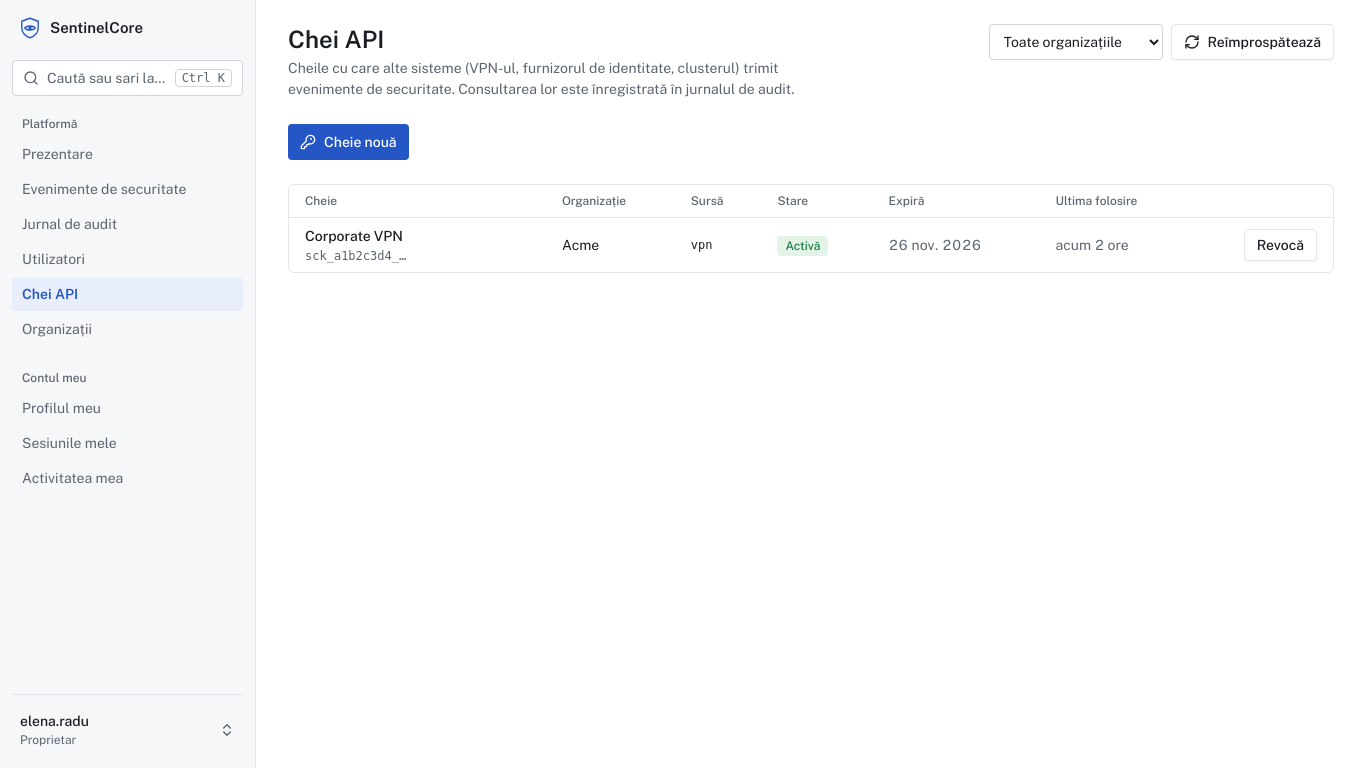
Test: organization API keys page › makes the owner choose among the organizations that are not suspended
Click the button "Cheie nouă".
click(348, 142)  # box [288, 124, 409, 160]
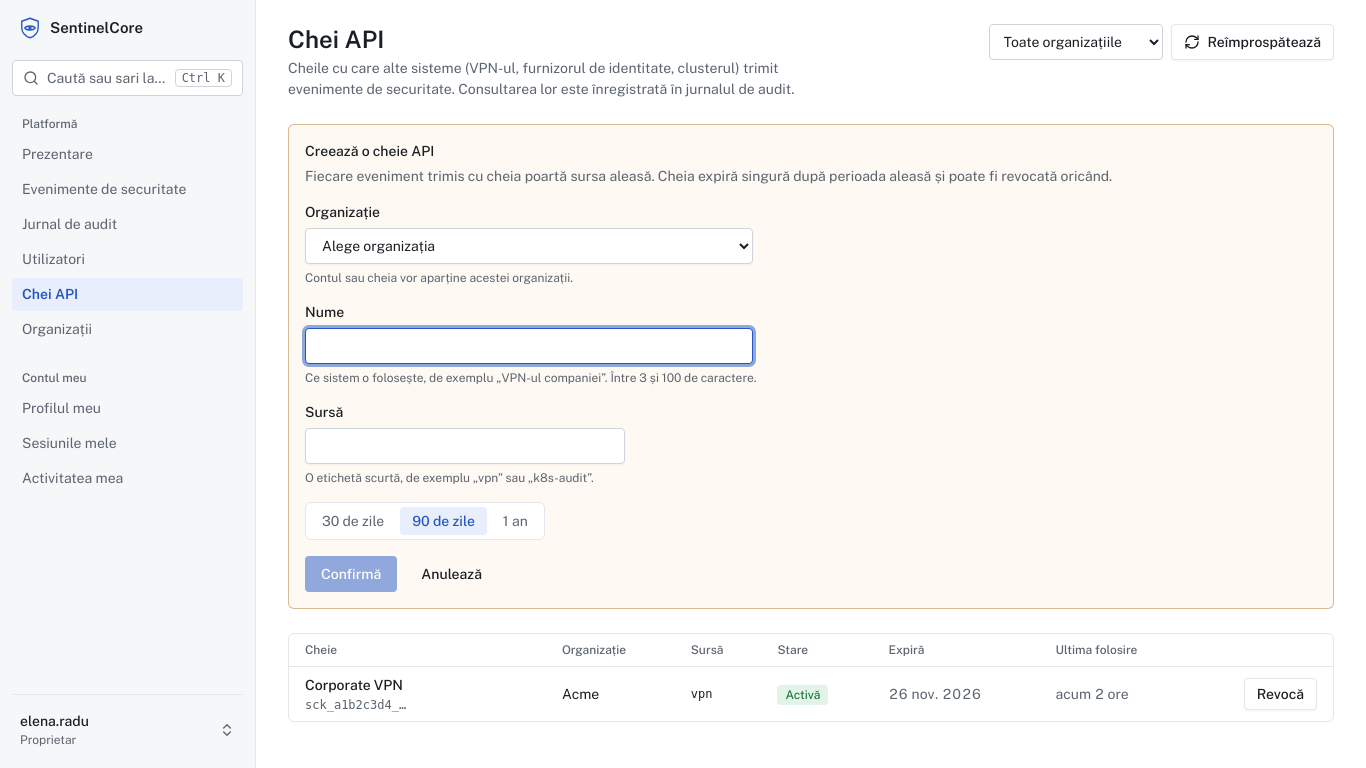
Type "Okta" into the field labelled "Nume".
click(529, 346); type("Okta")  # box [305, 328, 753, 364]
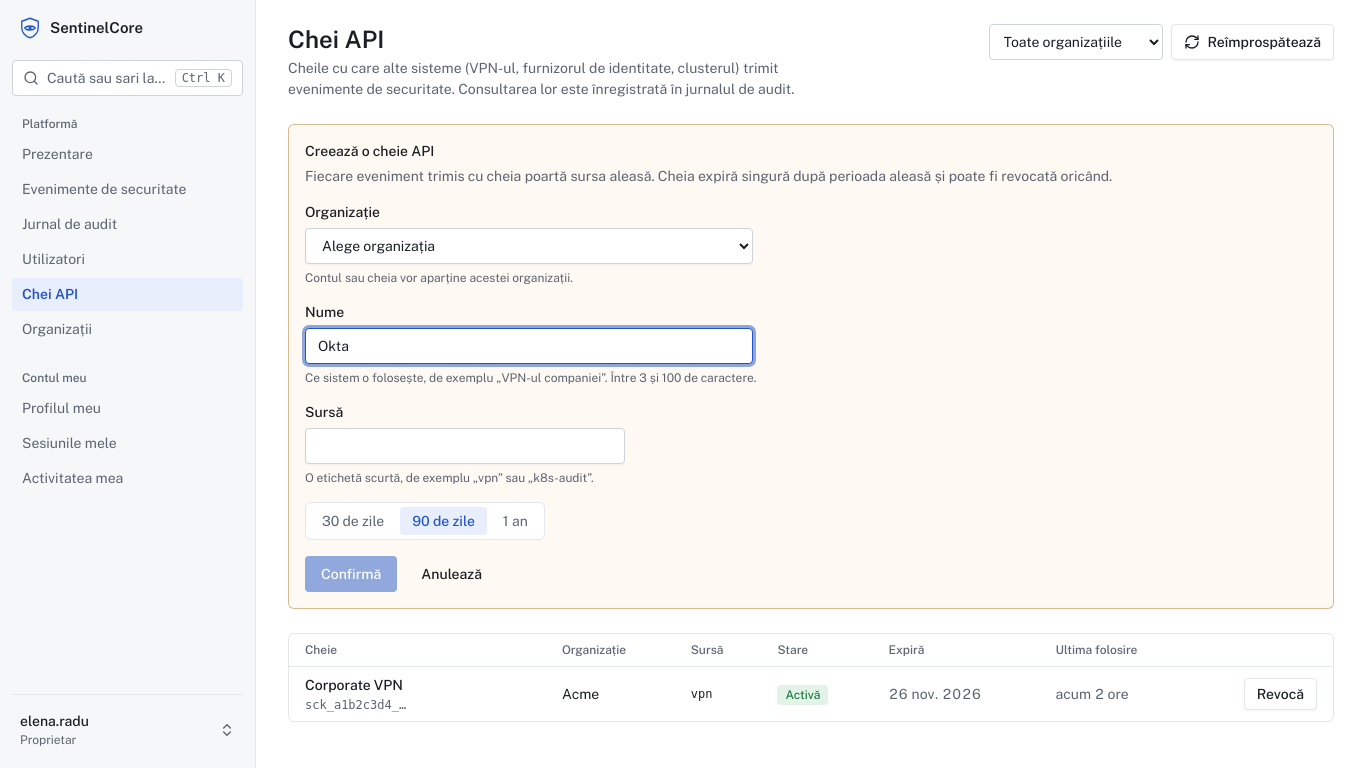
Type "okta" into the field labelled "Sursă".
click(465, 446); type("okta")  # box [305, 428, 625, 464]
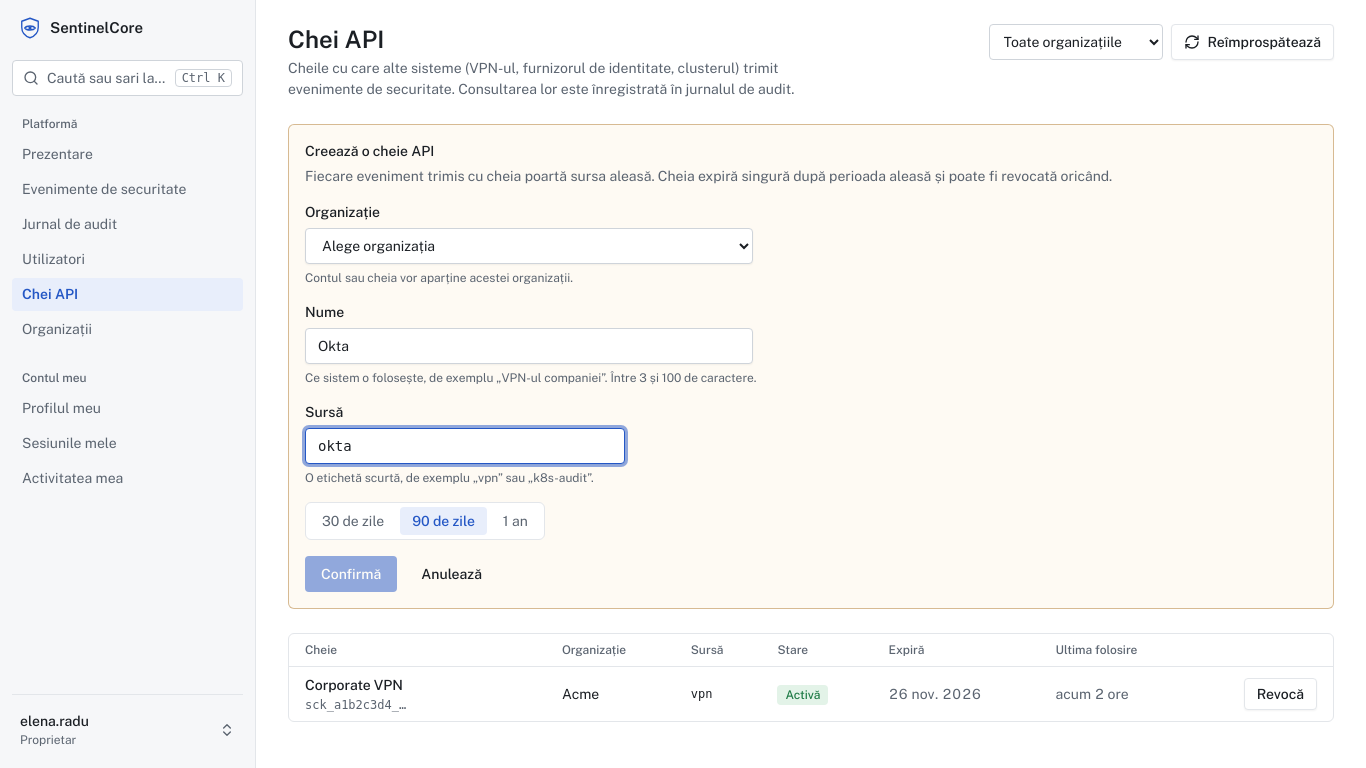
Expected: the button "Confirmă" is disabled, [305, 556, 397, 592]
Select "Globex (globex)" in the dropdown labelled "Organizație" at (529, 246), box [305, 228, 753, 264]
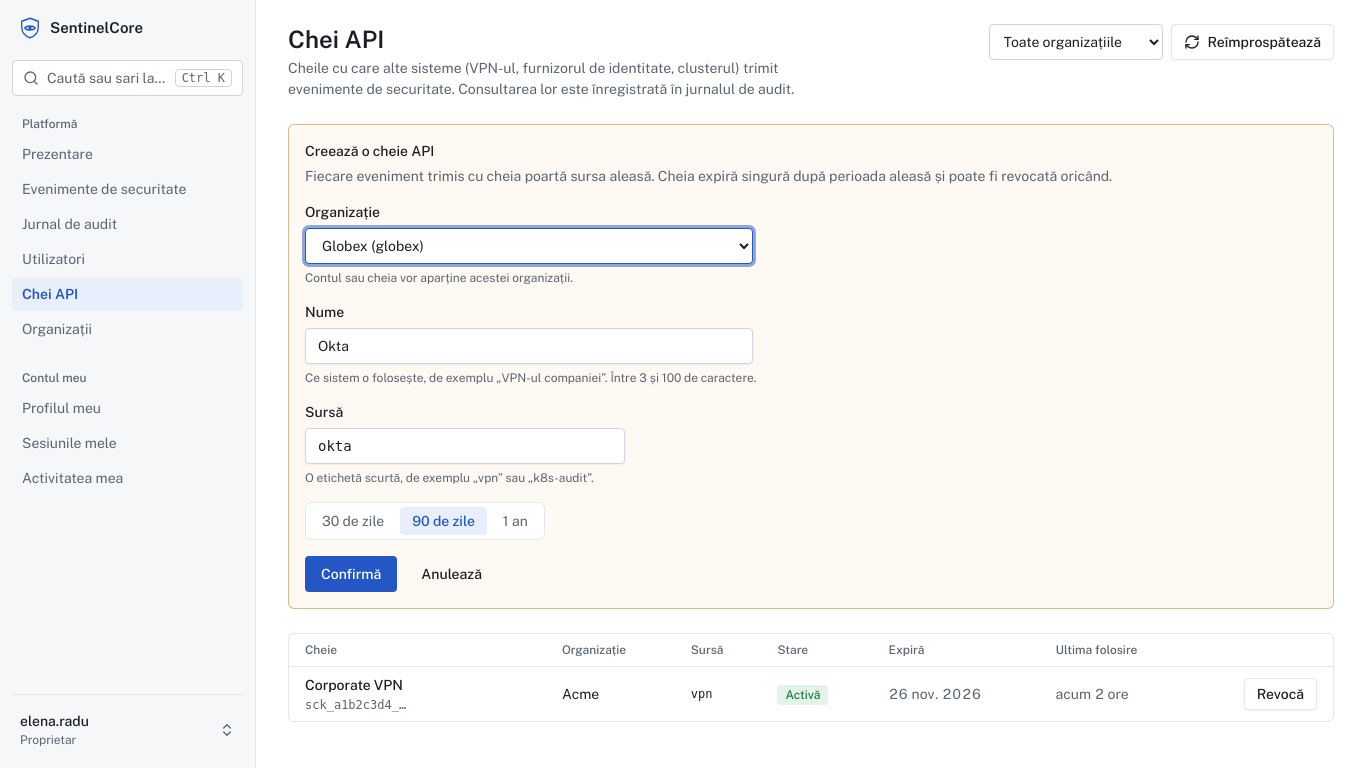
Click the button "Confirmă".
click(351, 574)  # box [305, 556, 397, 592]
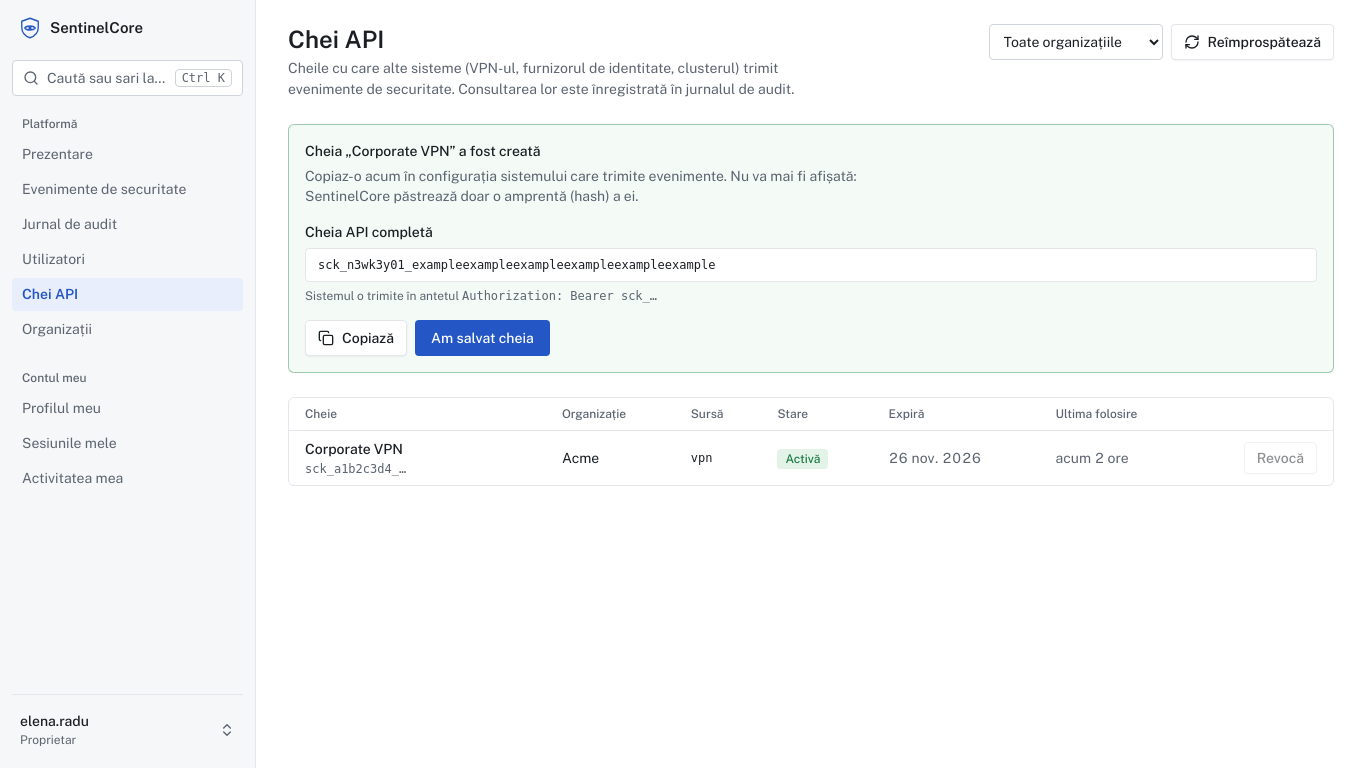
Expected: the element "a fost creată" is shown, [288, 124, 1334, 373]
